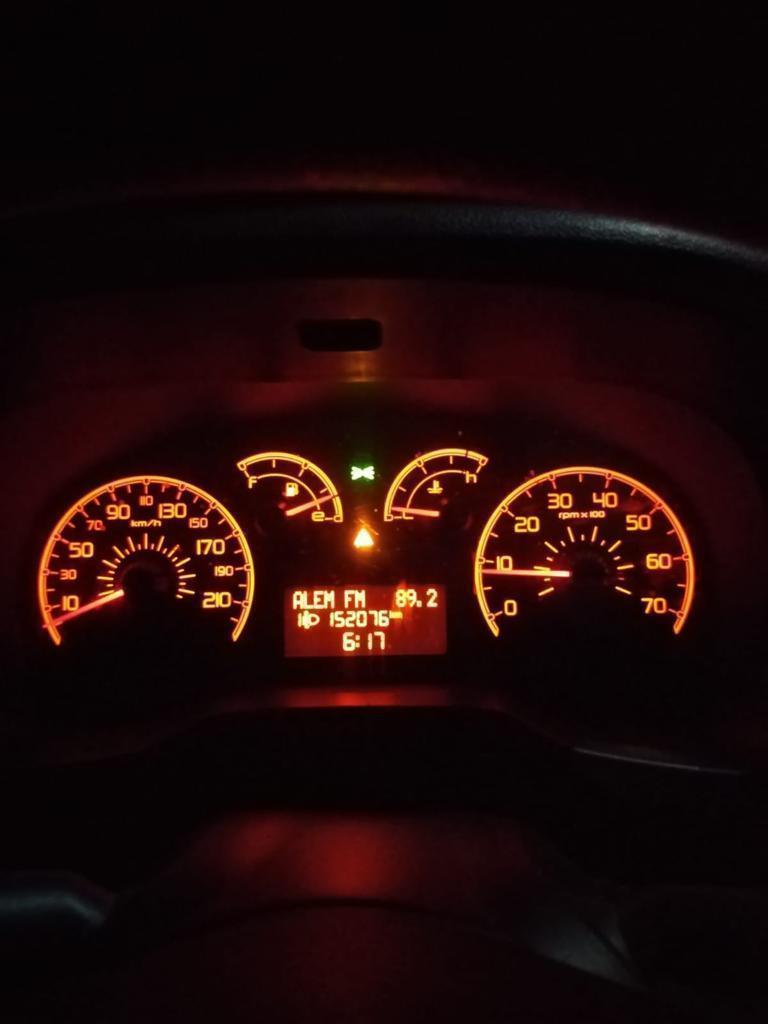,: (416, 600, 423, 608)
0: (356, 609, 367, 627)
1: (367, 631, 373, 651), (328, 610, 334, 629), (297, 611, 301, 629)
2: (425, 587, 438, 607), (345, 610, 355, 627)
5: (334, 609, 344, 627)
6: (342, 631, 355, 651), (378, 609, 389, 626)
7: (373, 630, 385, 650), (368, 609, 378, 626)
8: (395, 588, 406, 608)
9: (406, 588, 417, 608)
X: (343, 588, 355, 608), (355, 588, 366, 608), (313, 590, 324, 609), (324, 589, 334, 609), (292, 590, 303, 608), (303, 590, 313, 608), (395, 610, 403, 619), (389, 609, 395, 619), (356, 634, 360, 648)
odometer: (279, 578, 450, 659)
